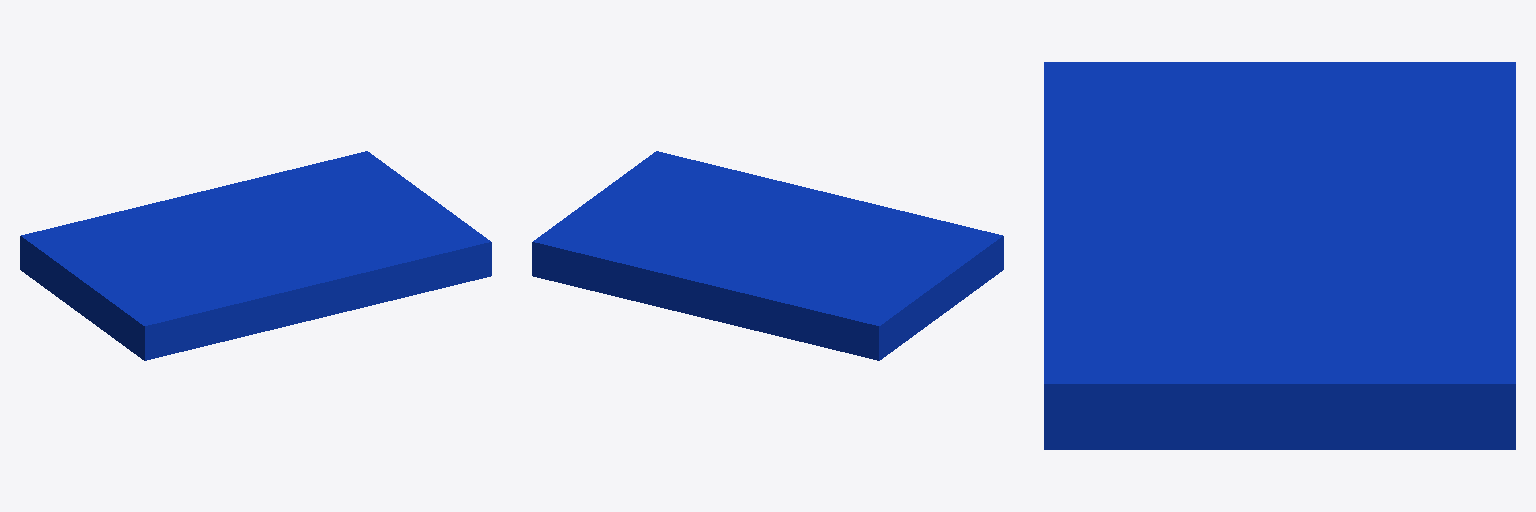
robot.urdf — contact_ramp:
<?xml version="1.0"?>
<robot name="contact_ramp">
  <link name="ramp">
    <inertial>
      <mass value="1"/>
      <origin xyz="0 0 0"/>
      <inertia ixx="0.0360417" ixy="0" ixz="0" iyy="0.0927083" iyz="0" izz="0.1270833"/>
    </inertial>
    <visual>
      <geometry><box size="1.05 0.65 0.10"/></geometry>
      <material name="blue"><color rgba="0.1 0.3 0.8 1"/></material>
    </visual>
    <collision><geometry><box size="1.05 0.65 0.10"/></geometry></collision>
  </link>
</robot>

--- What the picture shows (computed from the rendered views, not written in the file) ---
The picture shows the robot from 3 angles, left to right: view 1: azimuth 30°, elevation 25°; view 2: azimuth 150°, elevation 25°; view 3: azimuth 270°, elevation 25°; orthographic projection.
Model contact_ramp with 1 links and 0 joints (none), rooted at ramp, posed every joint at zero.
Links seen in each view (by area): view 1: ramp; view 2: ramp; view 3: ramp.
Boxes of the visible links, x1=… form: ramp: x1=20, y1=151, x2=491, y2=360; ramp: x1=532, y1=151, x2=1003, y2=360; ramp: x1=1044, y1=62, x2=1515, y2=449.
Bounding box of the posed robot: 1.05 × 0.65 × 0.1 m (x, y, z).
Geometry: primitives only (box / cylinder / sphere), no mesh files.
